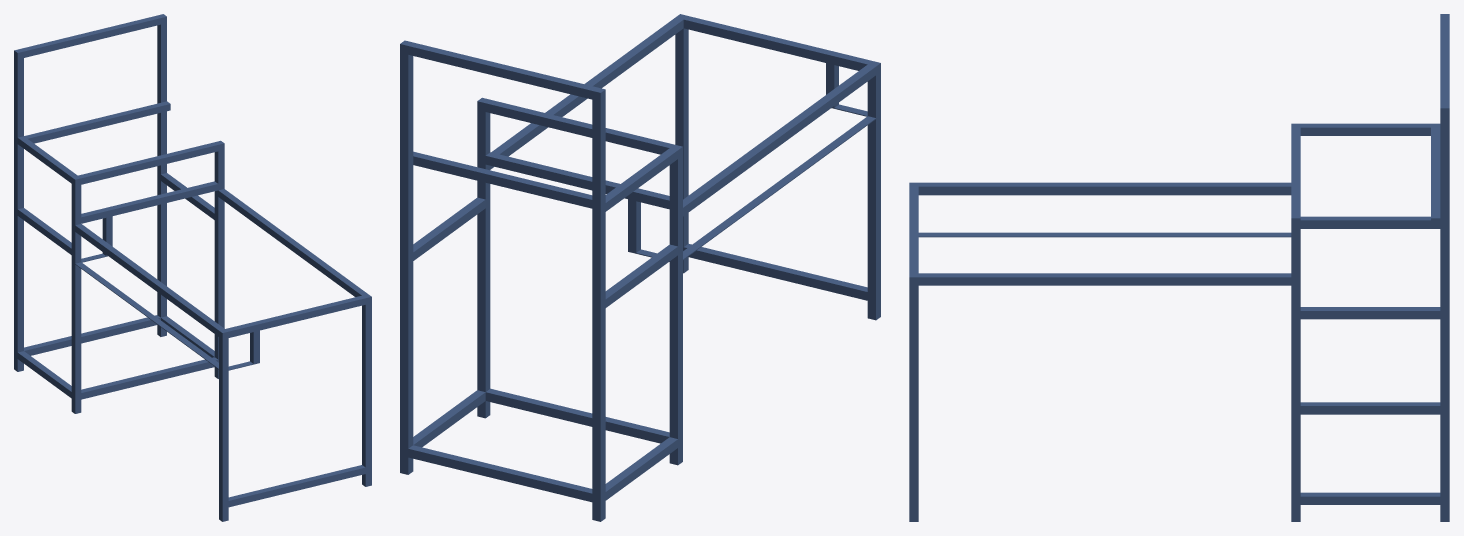
File: Computer desk.glb
3 views of the same model, side by side, from view 1: azimuth 30°, elevation 25°; view 2: azimuth 150°, elevation 25°; view 3: azimuth 270°, elevation 25° (orthographic). The views are drawn at different scales.
Visible parts, largest first — view 1: Mesh_Mesh_head_geo.001_lambert2SG.001; view 2: Mesh_Mesh_head_geo.001_lambert2SG.001; view 3: Mesh_Mesh_head_geo.001_lambert2SG.001.
Part boxes in pixels (x1=…): Mesh_Mesh_head_geo.001_lambert2SG.001: x1=14, y1=14, x2=371, y2=521; Mesh_Mesh_head_geo.001_lambert2SG.001: x1=400, y1=14, x2=880, y2=521; Mesh_Mesh_head_geo.001_lambert2SG.001: x1=909, y1=14, x2=1449, y2=521.
Size of the model in its own units: 24 by 49 by 58.
